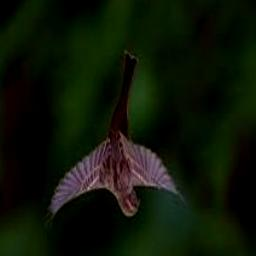Sparrow: (45, 50, 188, 229)
